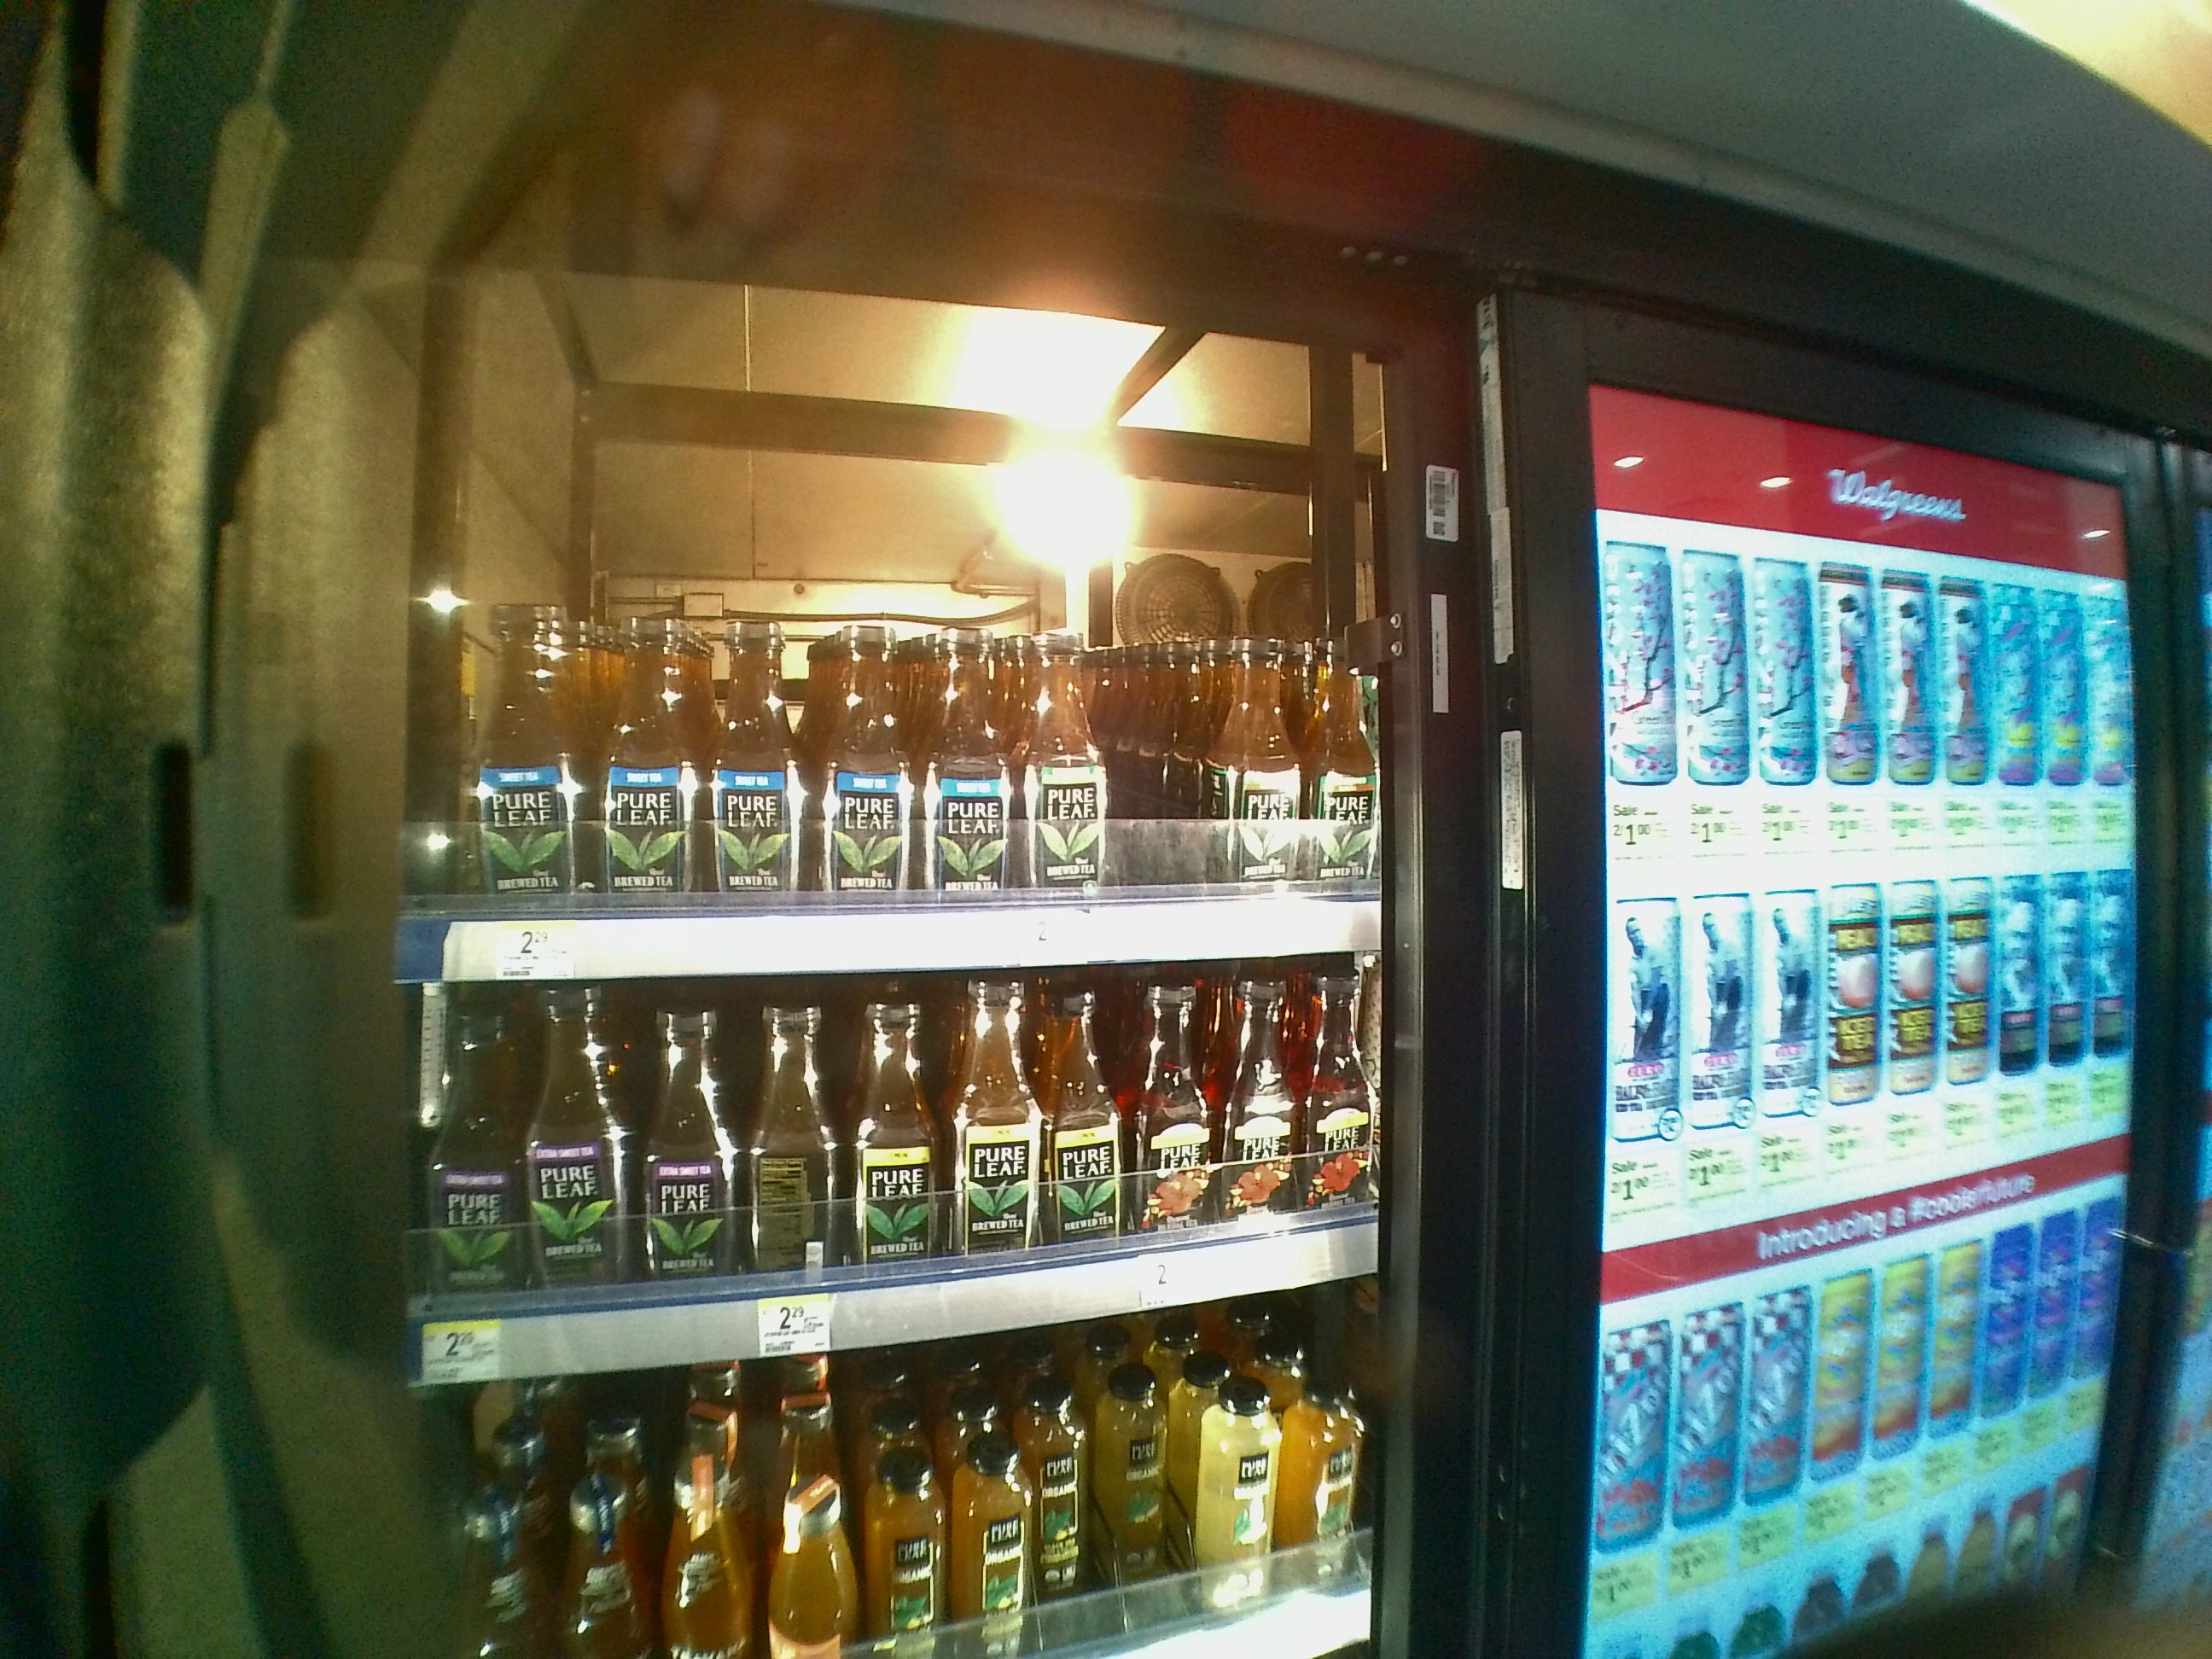shelf: (394, 410, 1378, 978), (399, 995, 1388, 1391)
